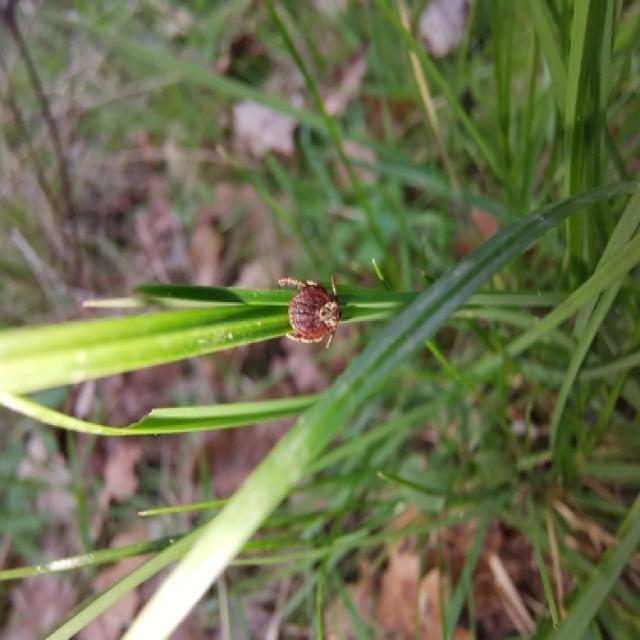Dermacentor Reticulatus-F: (278, 275, 340, 350)
